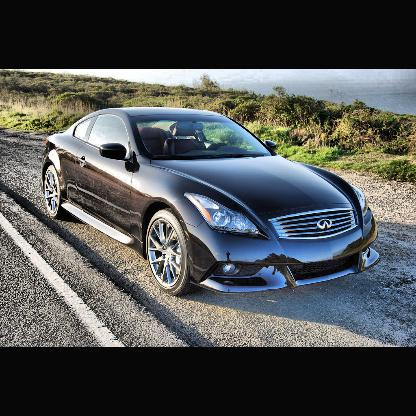Infiniti G Coupe IPL 2012: (43, 106, 382, 298)
